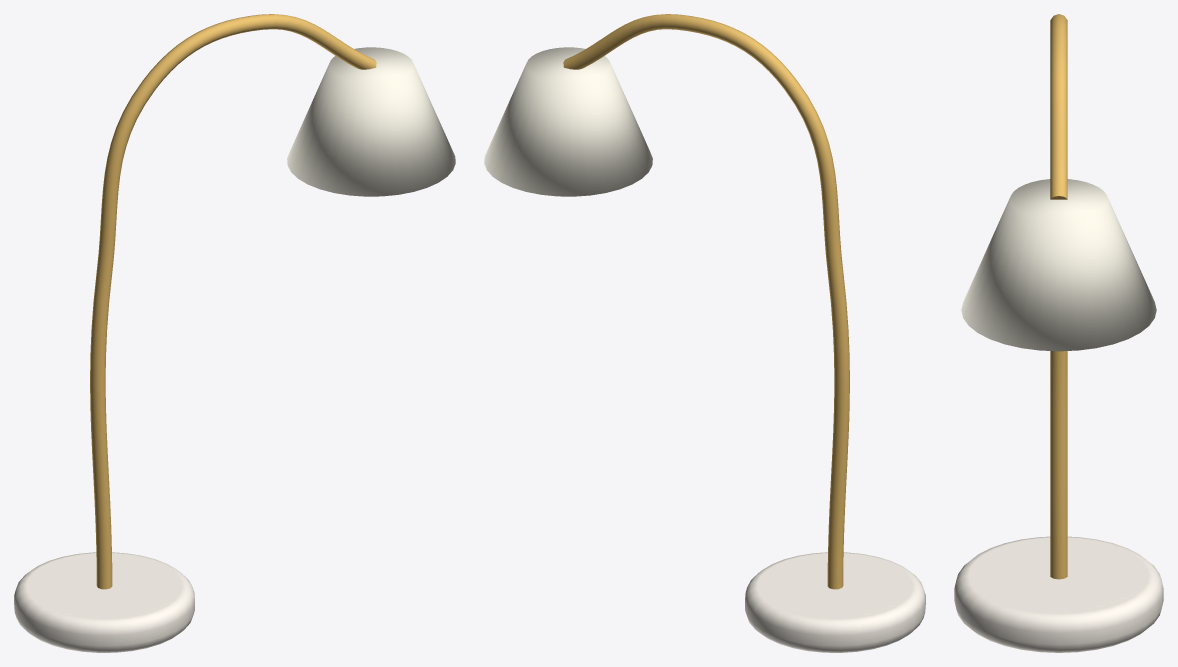
File: lampFloorArc.glb
3 renders of one model, left to right at view 1: azimuth 30°, elevation 25°; view 2: azimuth 150°, elevation 25°; view 3: azimuth 270°, elevation 25°, orthographic. The views are drawn at different scales.
Parts seen in each view (by area): view 1: Arc lamp shade, Heavy arc lamp base, Brass arch stem; view 2: Arc lamp shade, Heavy arc lamp base, Brass arch stem; view 3: Arc lamp shade, Heavy arc lamp base, Brass arch stem.
Boxes of the visible parts, x1=… form: Arc lamp shade: x1=287, y1=47, x2=455, y2=196; Heavy arc lamp base: x1=14, y1=552, x2=194, y2=652; Brass arch stem: x1=90, y1=14, x2=376, y2=589; Arc lamp shade: x1=484, y1=47, x2=652, y2=196; Heavy arc lamp base: x1=745, y1=552, x2=925, y2=652; Brass arch stem: x1=563, y1=14, x2=849, y2=589; Arc lamp shade: x1=961, y1=179, x2=1156, y2=351; Heavy arc lamp base: x1=954, y1=536, x2=1163, y2=652; Brass arch stem: x1=1050, y1=14, x2=1067, y2=579.
Size of the model in its own units: 1.6 by 2.07 by 0.6.
